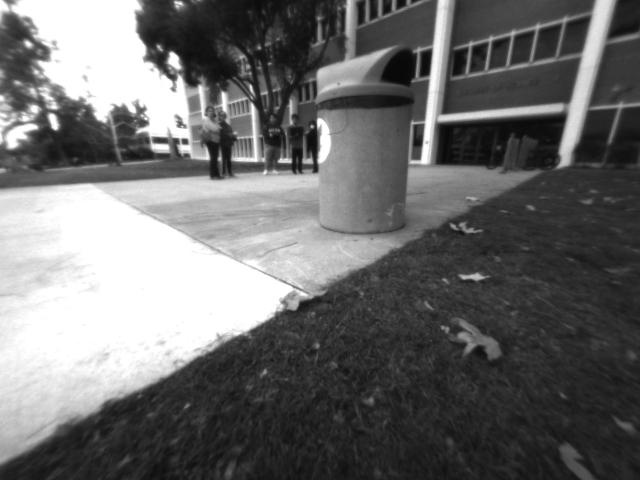trashcan: (312, 41, 415, 235)
